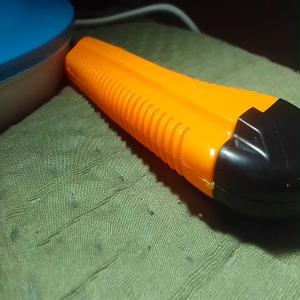estilete: (64, 36, 300, 224)
